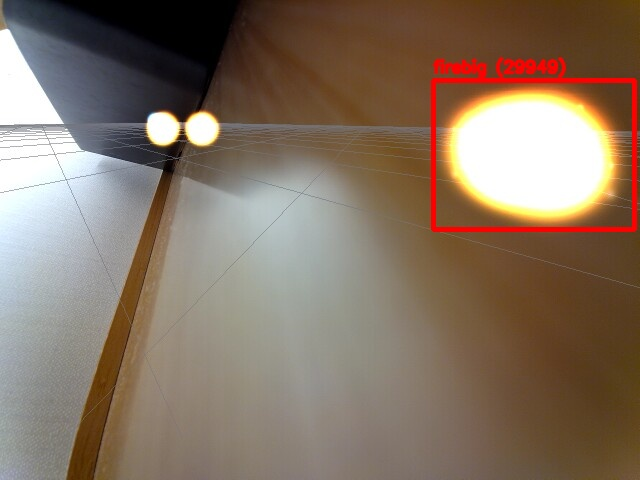firebig: (433, 80, 634, 229)
